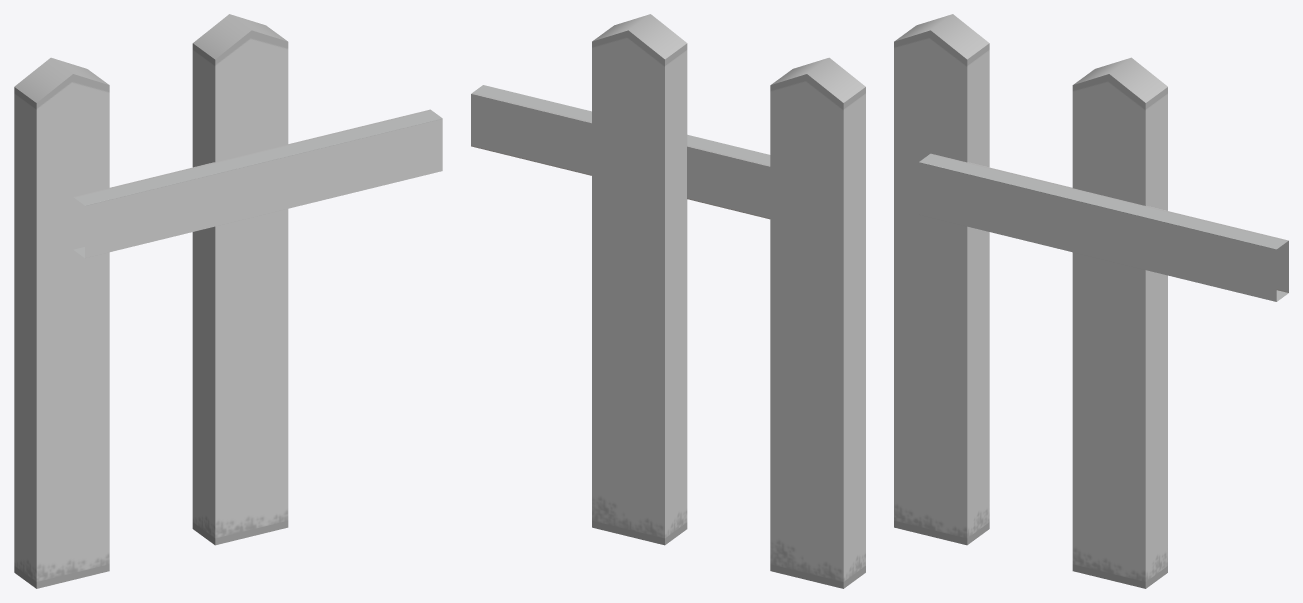
Rendered from city_white_picket_fence_02.fbx.
3 renders of one model, left to right at view 1: azimuth 30°, elevation 25°; view 2: azimuth 150°, elevation 25°; view 3: azimuth 330°, elevation 25°, orthographic.
Visible parts, largest first — view 1: polySurface215; view 2: polySurface215; view 3: polySurface215.
Part boxes in pixels (bbox=[...]): polySurface215: bbox=[14, 14, 442, 588]; polySurface215: bbox=[471, 14, 865, 588]; polySurface215: bbox=[894, 14, 1288, 588].
Bounding box in the file's own units: 0.7716 × 0.9462 × 0.1155.
